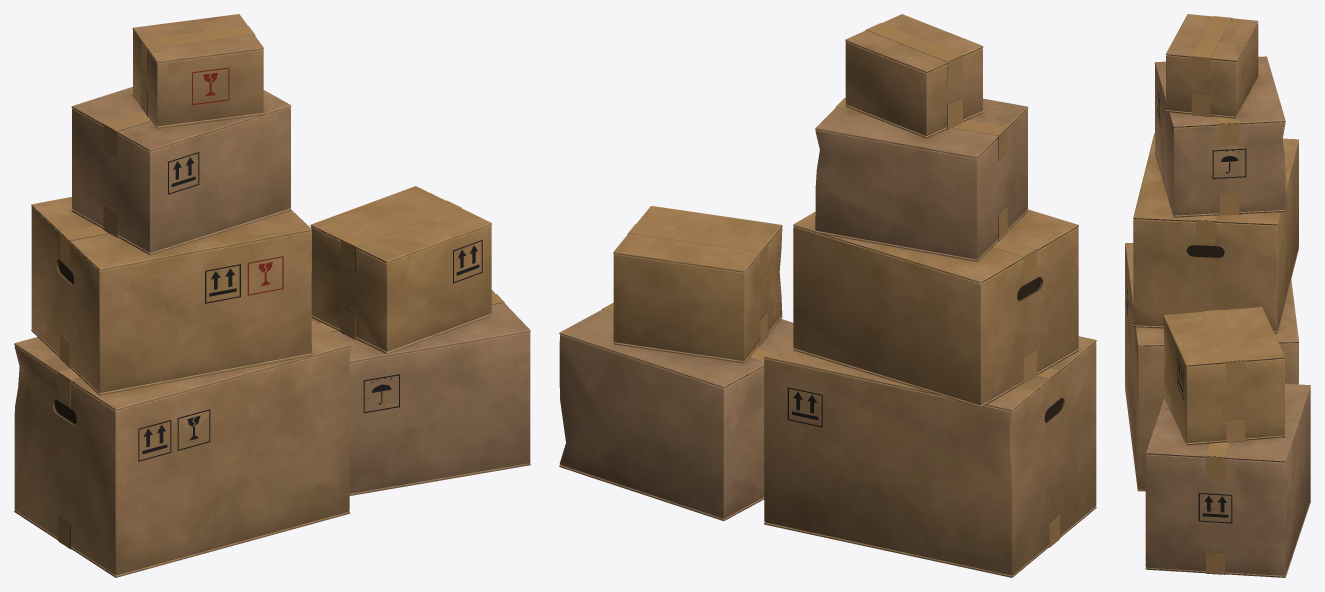
File: cardboard_stack.glb
The picture shows the model from 3 angles, left to right: view 1: azimuth 30°, elevation 25°; view 2: azimuth 150°, elevation 25°; view 3: azimuth 270°, elevation 25°; orthographic projection. The views are drawn at different scales.
Parts seen in each view (by area): view 1: cardboard-box-stack_body, cardboard-box-stack_box_a_print, cardboard-box-stack_box_c_print; view 2: cardboard-box-stack_body; view 3: cardboard-box-stack_body, cardboard-box-stack_box_a_print.
Part boxes in pixels (box(x1,y1,x2,y2)): cardboard-box-stack_body: box(14, 14, 530, 577); cardboard-box-stack_box_a_print: box(138, 152, 482, 461); cardboard-box-stack_box_c_print: box(192, 67, 283, 295); cardboard-box-stack_body: box(559, 14, 1096, 577); cardboard-box-stack_body: box(1125, 14, 1310, 577); cardboard-box-stack_box_a_print: box(1126, 86, 1246, 523).
Bounding box in the file's own units: 1.13 × 1.12 × 0.4598.
Materials: 3 (1 with a texture image).
